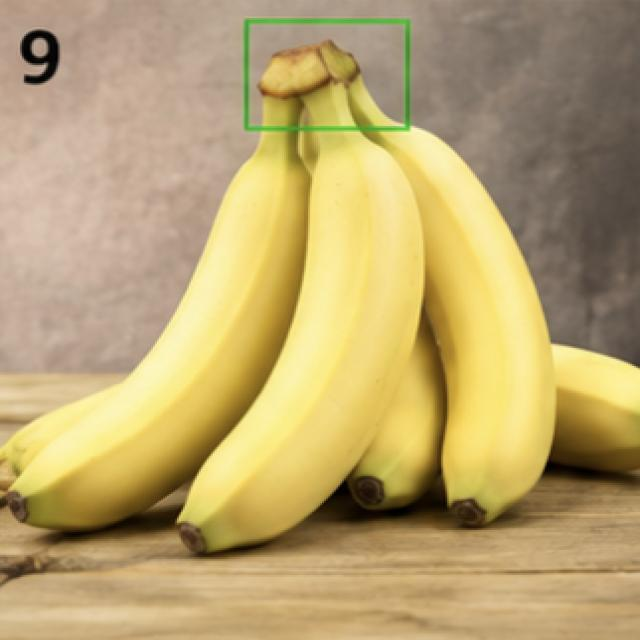Fruit-Stem-Detection: (247, 16, 405, 131), (257, 37, 397, 157)
